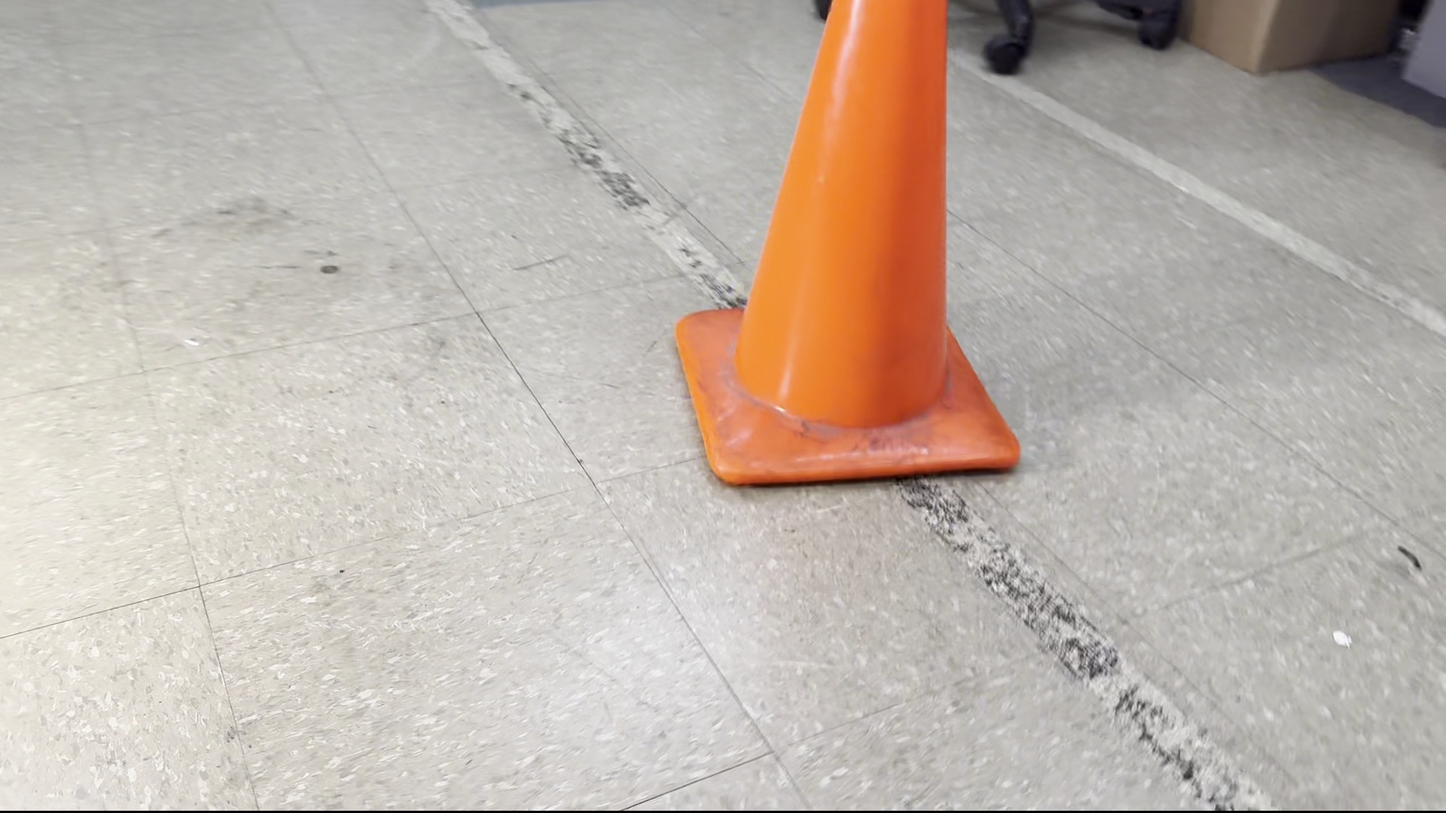traffic_cone: (673, 0, 1021, 487)
